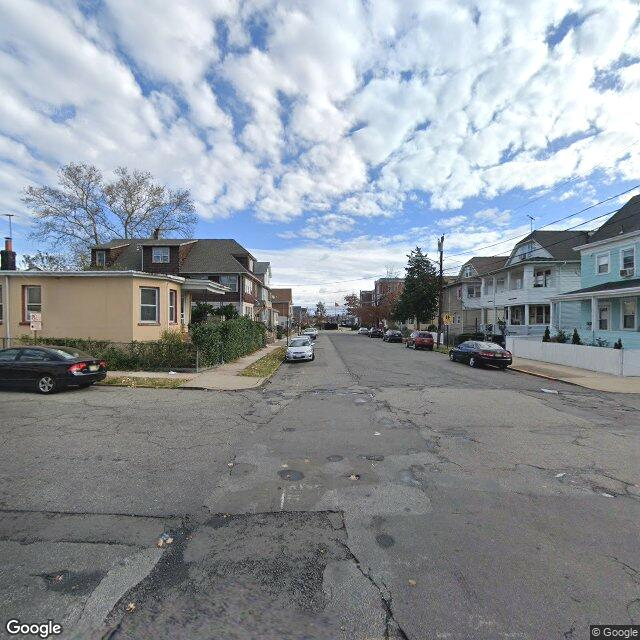pothole: (38, 562, 106, 601), (376, 602, 419, 640), (166, 510, 205, 542), (589, 482, 623, 502), (366, 451, 387, 465), (345, 470, 363, 485)
